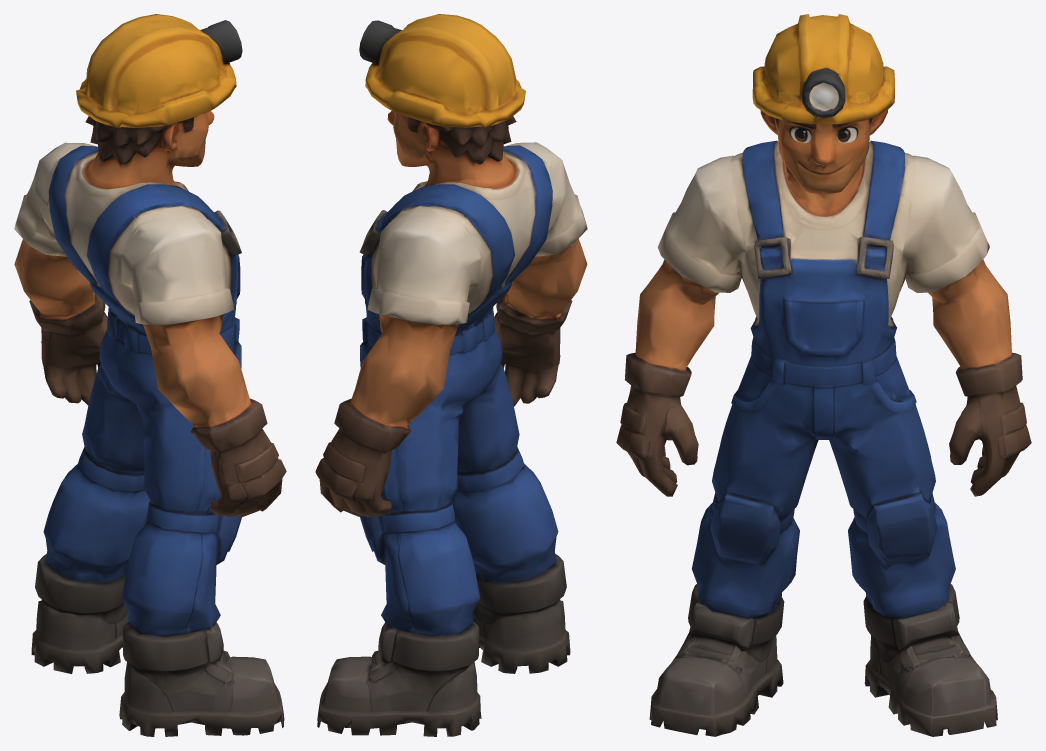
Rendered from miner-a-original.glb.
3 views of the same model, side by side, from view 1: azimuth 30°, elevation 25°; view 2: azimuth 150°, elevation 25°; view 3: azimuth 270°, elevation 25° (orthographic). The views are drawn at different scales.
Parts seen in each view (by area): view 1: tripo_node_b054bf79-1490-4bf9-8774-287dd54f35f2; view 2: tripo_node_b054bf79-1490-4bf9-8774-287dd54f35f2; view 3: tripo_node_b054bf79-1490-4bf9-8774-287dd54f35f2.
Part boxes in pixels (<box>): tripo_node_b054bf79-1490-4bf9-8774-287dd54f35f2: <box>14,14,286,736</box>; tripo_node_b054bf79-1490-4bf9-8774-287dd54f35f2: <box>315,14,587,736</box>; tripo_node_b054bf79-1490-4bf9-8774-287dd54f35f2: <box>616,14,1031,736</box>.
Size of the model in its own units: 0.2516 by 1 by 0.5537.
Materials: 1 (1 with a texture image).
